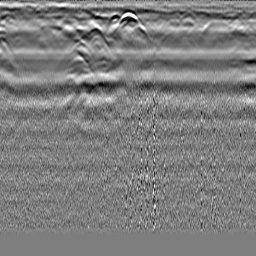cavity: (118, 10, 138, 26)
